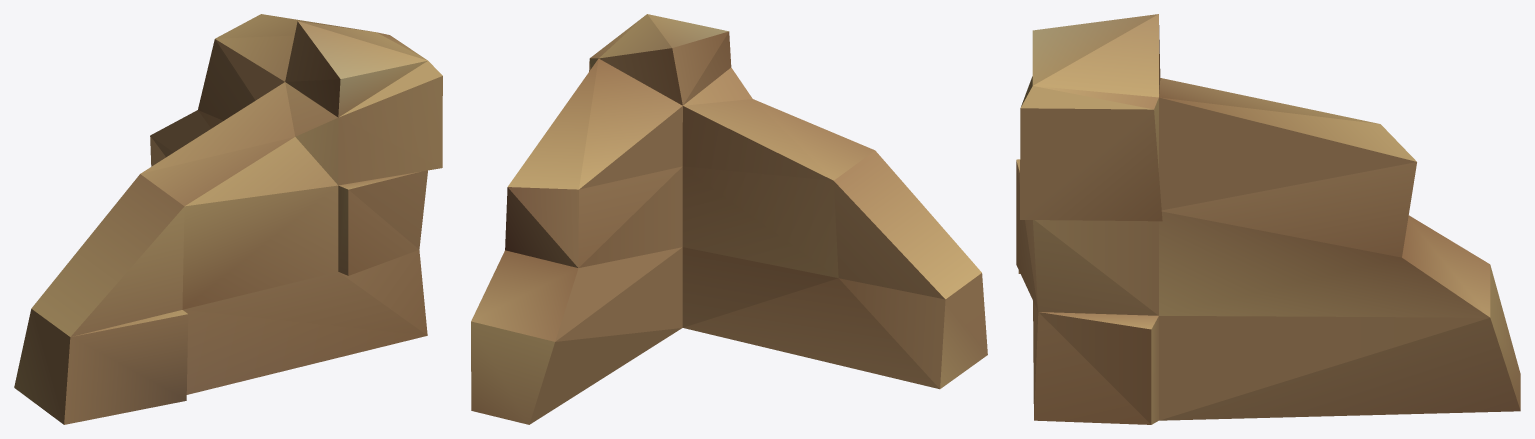
Rendered from Mixed_Wall_01.fbx.
The picture shows the model from 3 angles, left to right: view 1: azimuth 30°, elevation 25°; view 2: azimuth 150°, elevation 25°; view 3: azimuth 270°, elevation 25°; orthographic projection. The views are drawn at different scales.
Visible parts, largest first — view 1: Wall_01.001; view 2: Wall_01.001; view 3: Wall_01.001.
Part boxes in pixels (bbox=[...]): Wall_01.001: bbox=[14, 14, 442, 424]; Wall_01.001: bbox=[471, 14, 987, 424]; Wall_01.001: bbox=[1016, 14, 1520, 424].
Bounding box in the file's own units: 421 × 314 × 399.
